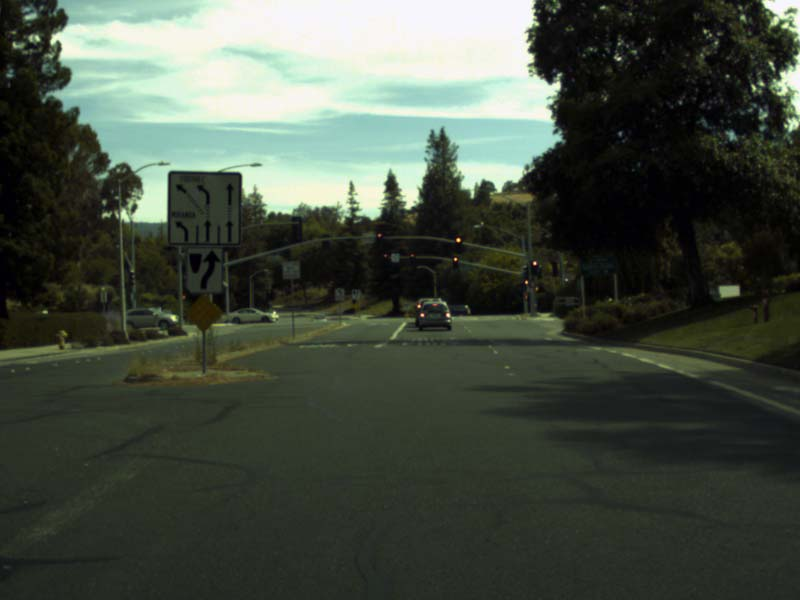Red: (529, 259, 539, 275), (454, 235, 462, 253), (376, 230, 382, 248), (409, 251, 415, 268), (533, 283, 544, 292), (522, 277, 530, 288), (382, 251, 387, 264), (453, 255, 457, 269), (523, 293, 529, 300)
